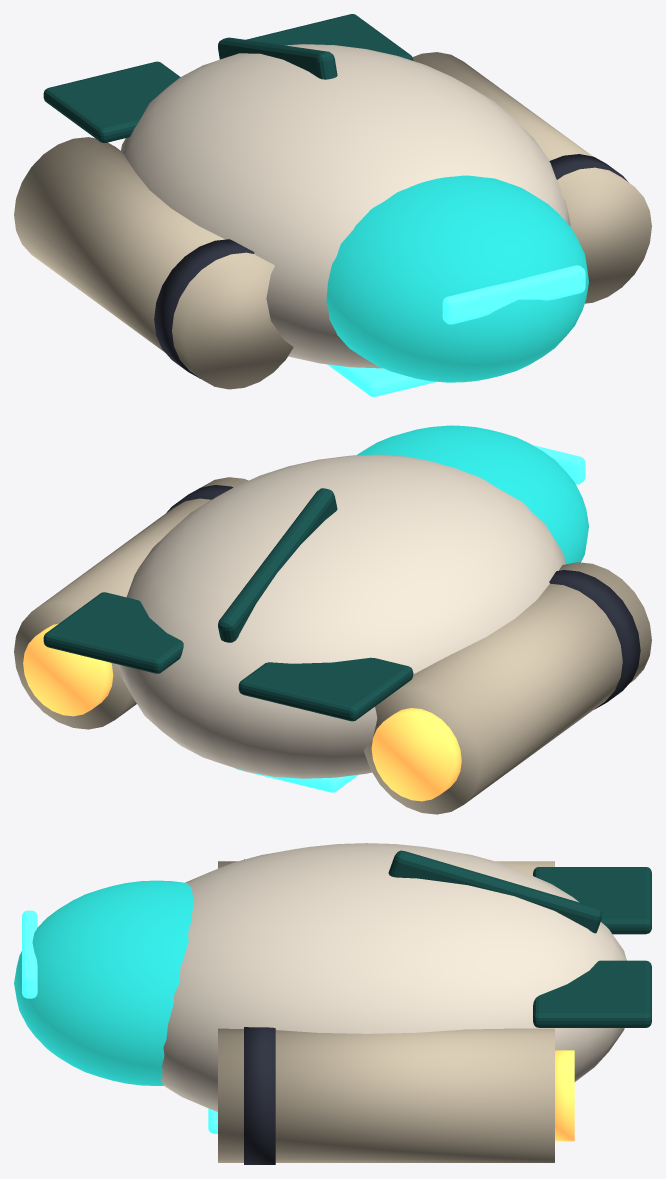
Rendered from drone.glb.
The picture shows the model from 3 angles, top to bottom: view 1: azimuth 30°, elevation 25°; view 2: azimuth 150°, elevation 25°; view 3: azimuth 270°, elevation 25°; orthographic projection.
Visible parts, largest first — view 1: Hull, Visor, Pod, Pod.001, FinL, EyeStrip, PodRing, FinR, FinTop, BellyGlow, PodRing.001; view 2: Hull, Pod, Visor, Pod.001, FinL, FinR, Thruster, Thruster.001, FinTop, PodRing, EyeStrip, BellyGlow; view 3: Hull, Pod.001, Visor, FinR, FinL, PodRing.001, FinTop, Thruster.001, EyeStrip, Pod.
Boxes of the visible parts, left/top/right/bottom form: Hull: left=121, top=44, right=570, bottom=368; Visor: left=326, top=175, right=588, bottom=382; Pod: left=14, top=137, right=293, bottom=389; Pod.001: left=412, top=52, right=651, bottom=303; FinL: left=43, top=61, right=180, bottom=142; EyeStrip: left=442, top=265, right=585, bottom=324; PodRing: left=154, top=239, right=254, bottom=378; FinR: left=246, top=14, right=413, bottom=60; FinTop: left=218, top=37, right=337, bottom=79; BellyGlow: left=327, top=364, right=436, bottom=396; PodRing.001: left=549, top=154, right=628, bottom=182; Hull: left=119, top=454, right=565, bottom=778; Pod: left=364, top=562, right=651, bottom=814; Visor: left=357, top=425, right=588, bottom=564; Pod.001: left=14, top=477, right=248, bottom=729; FinL: left=238, top=657, right=413, bottom=721; FinR: left=43, top=592, right=183, bottom=673; Thruster: left=371, top=708, right=461, bottom=801; Thruster.001: left=23, top=623, right=113, bottom=716; FinTop: left=218, top=488, right=337, bottom=642; PodRing: left=549, top=570, right=640, bottom=709; EyeStrip: left=450, top=425, right=585, bottom=484; BellyGlow: left=235, top=768, right=358, bottom=792; Hull: left=160, top=843, right=626, bottom=1111; Pod.001: left=218, top=1028, right=554, bottom=1162; Visor: left=14, top=880, right=192, bottom=1085; FinR: left=533, top=960, right=651, bottom=1027; FinL: left=533, top=867, right=651, bottom=934; PodRing.001: left=244, top=1027, right=275, bottom=1164; FinTop: left=388, top=850, right=601, bottom=933; Thruster.001: left=555, top=1050, right=574, bottom=1141; EyeStrip: left=22, top=910, right=37, bottom=998; Pod: left=218, top=861, right=554, bottom=875.
Size of the model in its own units: 1.35 by 0.7199 by 1.61.
